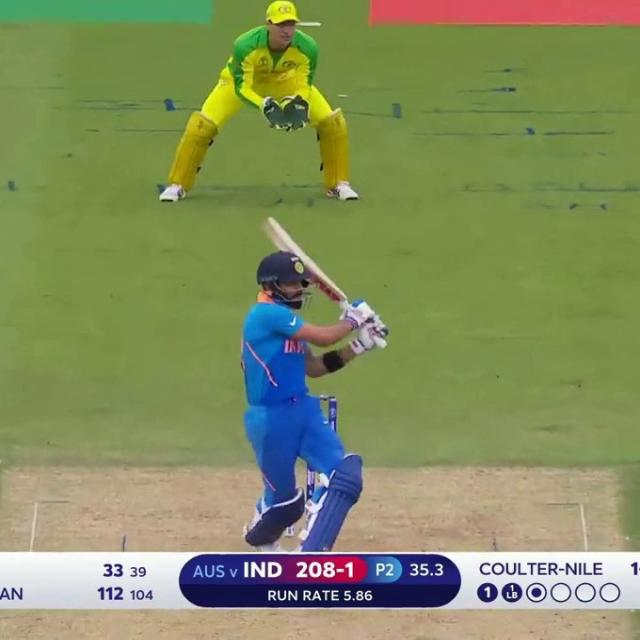bat: (259, 218, 349, 302)
toe: (257, 216, 275, 222)
